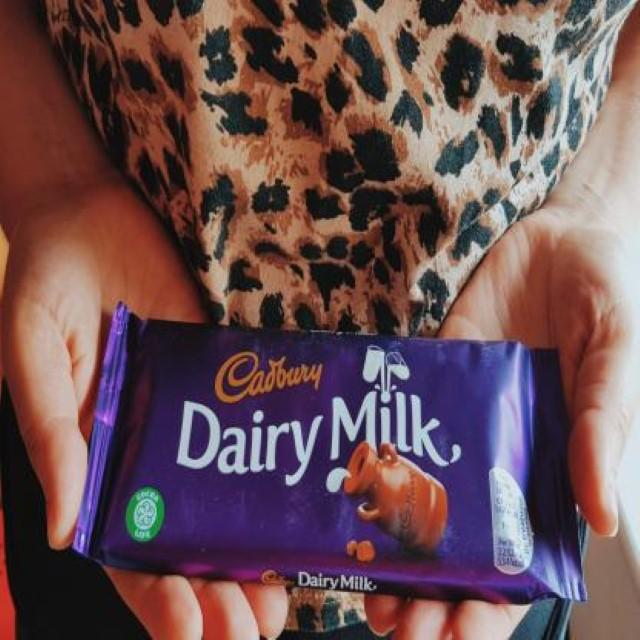cadbury_chocolate: (130, 297, 568, 593)
